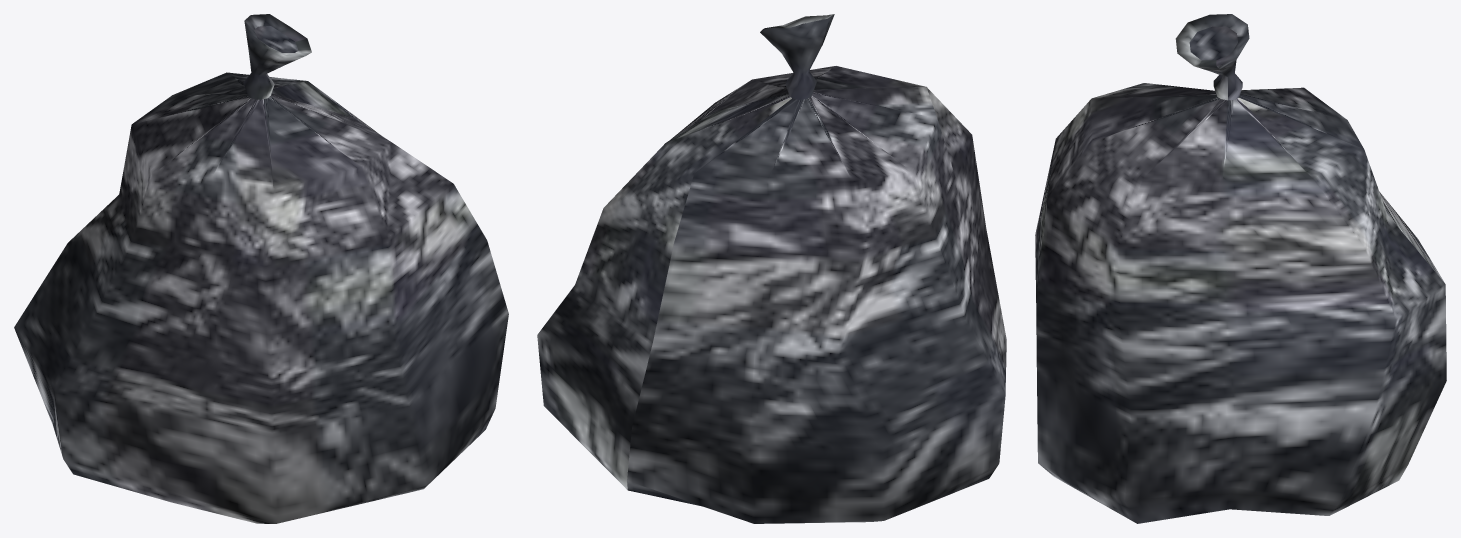
File: trashbag.FBX
The picture shows the model from 3 angles, left to right: view 1: azimuth 30°, elevation 25°; view 2: azimuth 150°, elevation 25°; view 3: azimuth 270°, elevation 25°; orthographic projection. The views are drawn at different scales.
Visible parts, largest first — view 1: bag; view 2: bag; view 3: bag.
Part boxes in pixels (<box>): bag: <box>14,14,508,523</box>; bag: <box>537,14,1006,523</box>; bag: <box>1035,14,1446,523</box>.
Bounding box in the file's own units: 43.95 × 44.09 × 39.2.
1 material, 1 textured.
